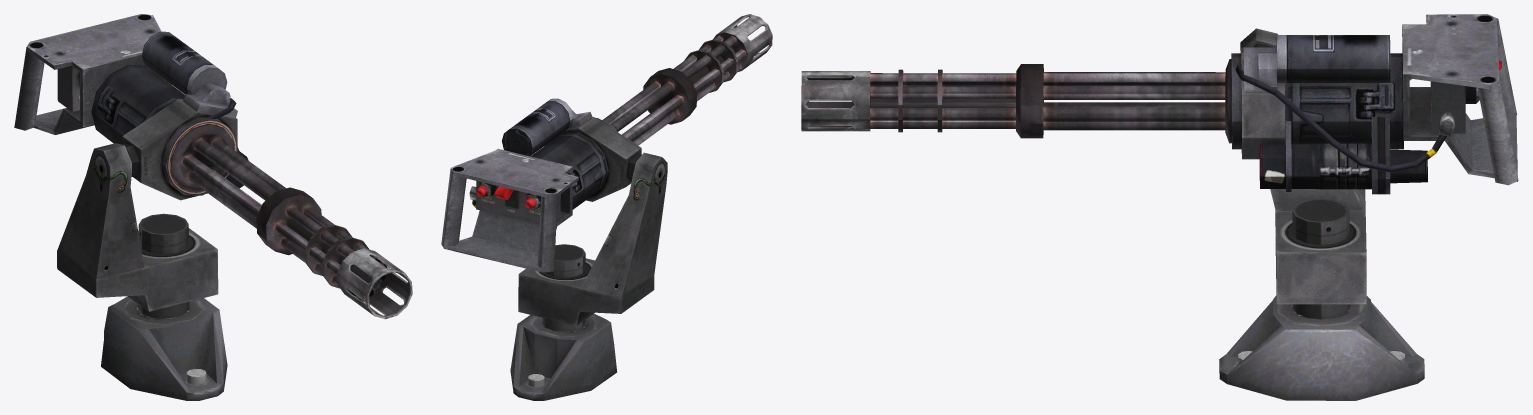
The model's file is MiniGun.obj.
3 renders of one model, left to right at view 1: azimuth 30°, elevation 25°; view 2: azimuth 150°, elevation 25°; view 3: azimuth 270°, elevation 25°, orthographic. The views are drawn at different scales.
Parts seen in each view (by area): view 1: minigun_sc.002, minigun_sc.003, minigun_sc, minigun_sc.001; view 2: minigun_sc.002, minigun_sc, minigun_sc.001, minigun_sc.003; view 3: minigun_sc.002, minigun_sc.003, minigun_sc.001, minigun_sc.
Part boxes in pixels (x1=…): minigun_sc.002: x1=14, y1=14, x2=248, y2=200; minigun_sc.003: x1=170, y1=123, x2=412, y2=319; minigun_sc: x1=57, y1=143, x2=218, y2=311; minigun_sc.001: x1=101, y1=213, x2=227, y2=400; minigun_sc.002: x1=441, y1=98, x2=641, y2=272; minigun_sc: x1=518, y1=152, x2=667, y2=325; minigun_sc.001: x1=510, y1=244, x2=617, y2=400; minigun_sc.003: x1=602, y1=14, x2=772, y2=145; minigun_sc.002: x1=1231, y1=14, x2=1518, y2=194; minigun_sc.003: x1=801, y1=59, x2=1232, y2=143; minigun_sc.001: x1=1219, y1=198, x2=1424, y2=400; minigun_sc: x1=1240, y1=28, x2=1366, y2=304.
Size of the model in its own units: 2.91 by 5.38 by 9.95.
